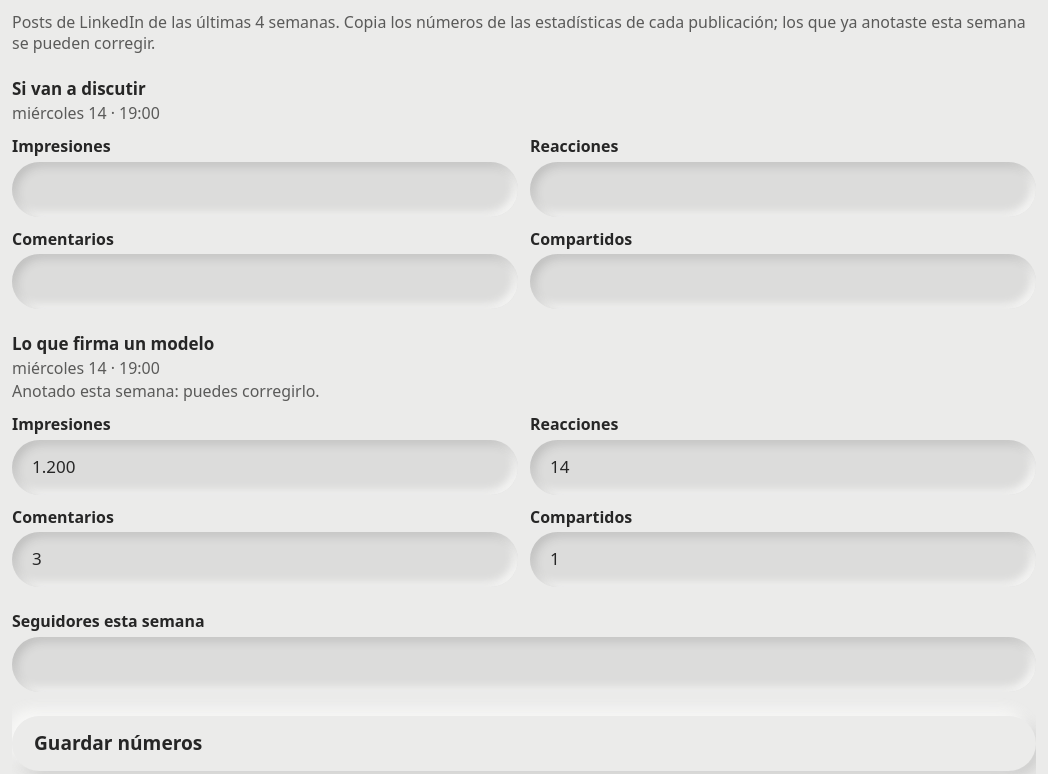
Scenario: NumerosDeLinkedin › shows a post noted this week with its numbers and sends it again only when corrected
Expected: the text "Anotado esta semana: puedes corregirlo." is shown, [12,380,320,402]
Replace the text in the field named "Impresiones de Lo que firma un modelo" with "1.300" at (265, 467), box [12,440,518,495]
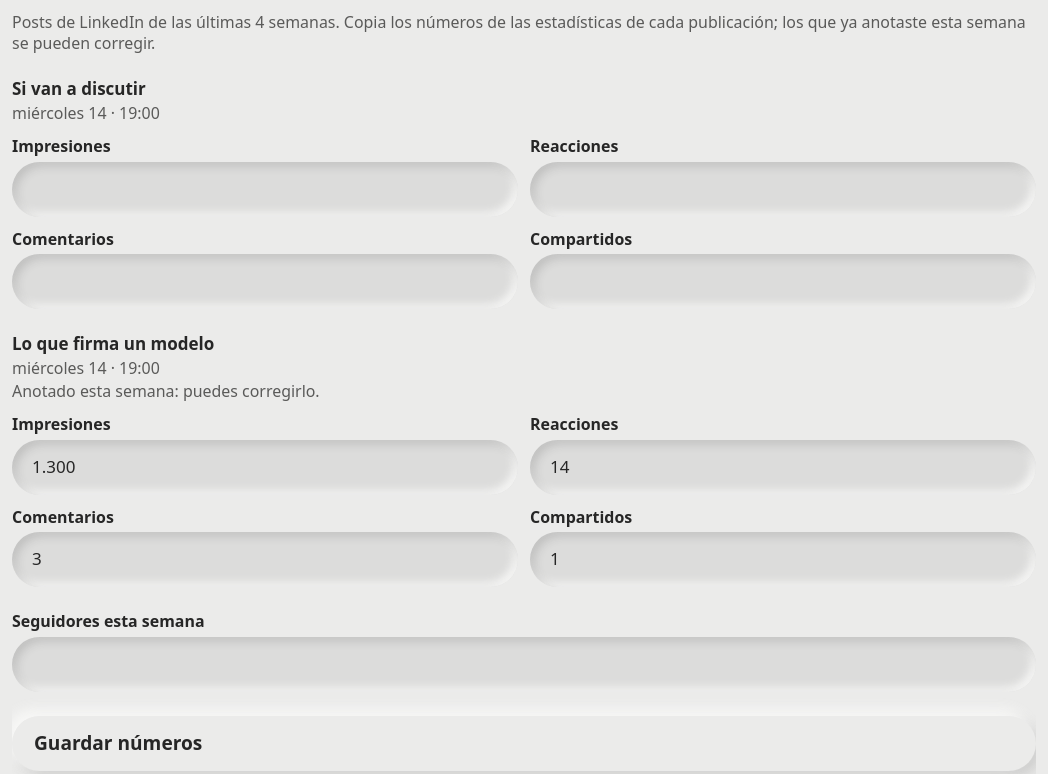
Click the button "Guardar números" at (118, 743), box [12,716,1036,771]
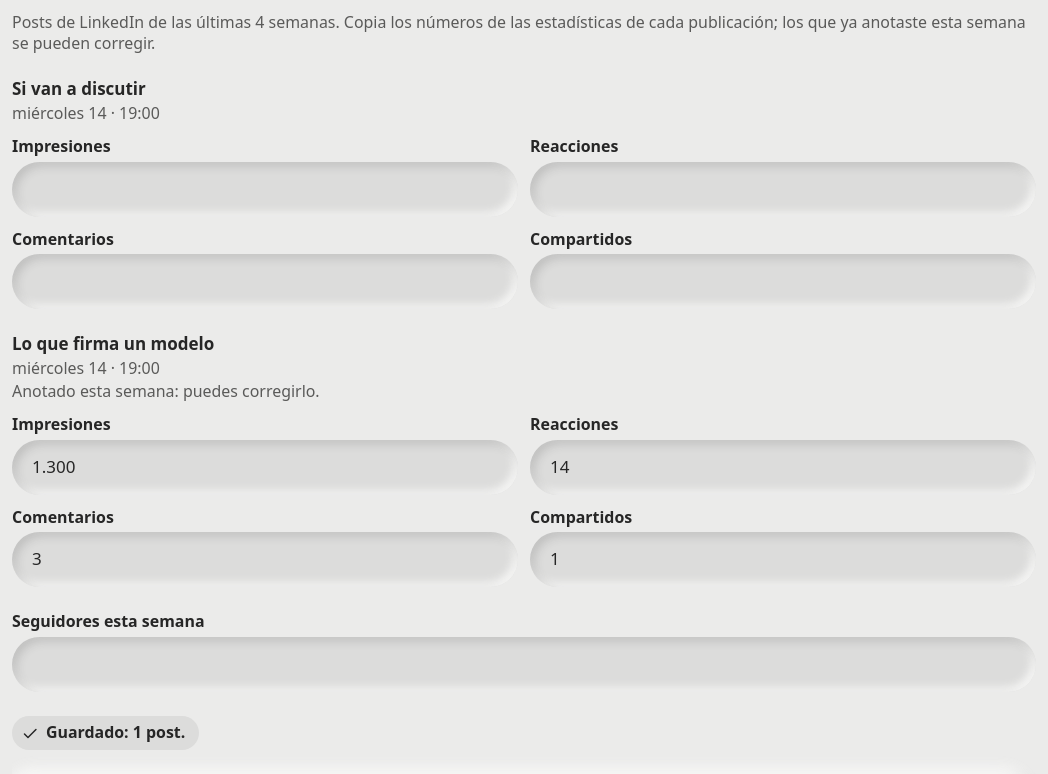
Expected: the text "Guardado: 1 post." is shown, [46,722,185,744]
